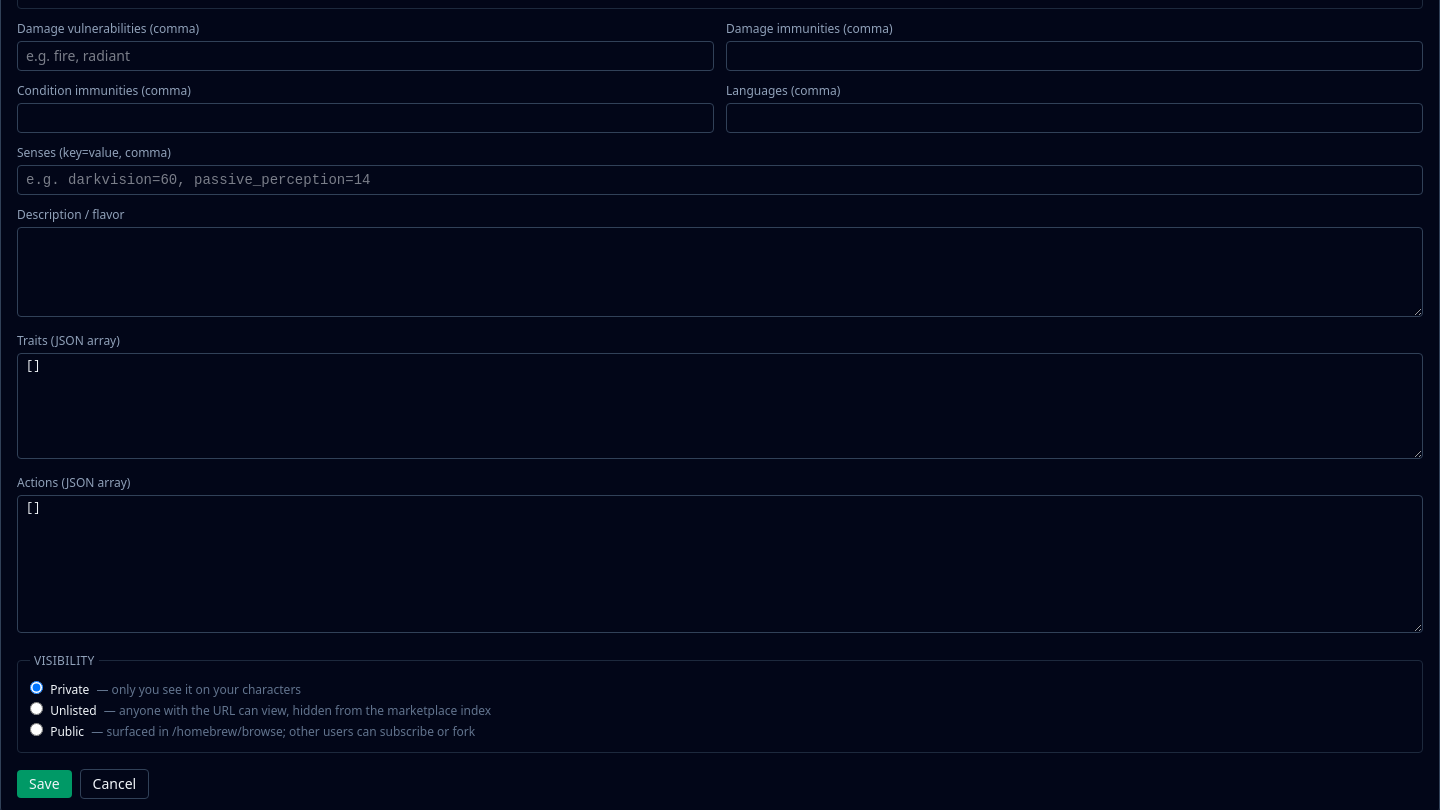
Scenario: MonsterEditor (unique) › disables Save when actions textarea is not a JSON array
The width and height of the screenshot is (1440, 810).
(page scrolled)
Replace the text in the text box labelled "Traits (JSON array)" with "\"not an array\"": (720, 406) x1=17 y1=352 x2=1423 y2=458
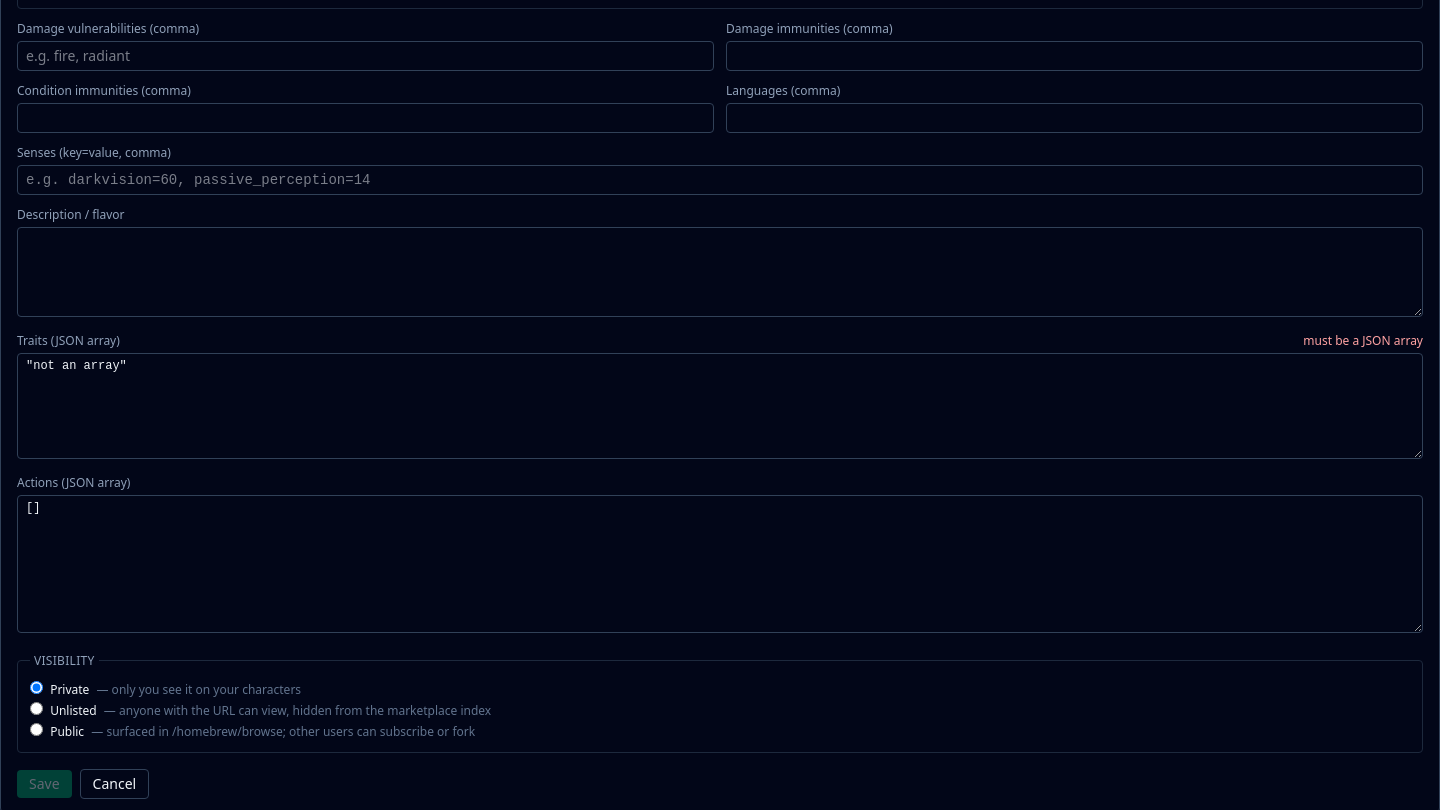
Expected: the button "Save" is disabled, x1=17 y1=770 x2=72 y2=798
